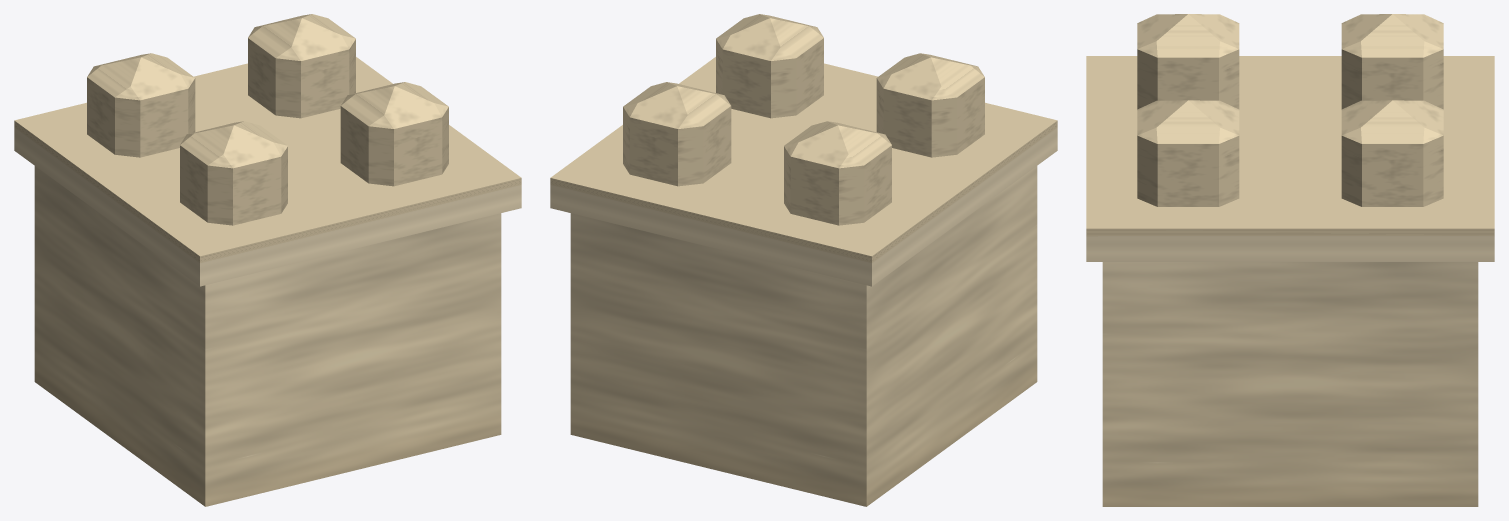
The model's file is wall_caps.glb.
3 renders of one model, left to right at view 1: azimuth 30°, elevation 25°; view 2: azimuth 150°, elevation 25°; view 3: azimuth 270°, elevation 25°, orthographic. The views are drawn at different scales.
Visible parts, largest first — view 1: wall, merlons, deck; view 2: wall, merlons, deck; view 3: wall, deck, merlons.
Part boxes in pixels (box(x1,y1,x2,y2)): wall: box(14, 127, 521, 506); merlons: box(87, 14, 448, 225); deck: box(14, 57, 521, 262); wall: box(550, 127, 1057, 506); merlons: box(623, 14, 984, 225); deck: box(550, 57, 1057, 262); wall: box(1086, 236, 1494, 506); deck: box(1086, 56, 1494, 235); merlons: box(1137, 14, 1443, 206).
Size of the model in its own units: 1 by 1 by 1.
3 materials, 3 textured.
